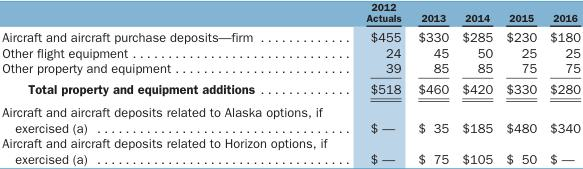table: (1, 0, 580, 166)
table column: (1, 0, 345, 166), (345, 0, 408, 166), (408, 0, 454, 166), (454, 0, 498, 166), (498, 0, 542, 166), (542, 0, 580, 166)
table column header: (1, 0, 580, 26)
table row: (1, 100, 580, 135), (1, 135, 580, 166), (1, 0, 580, 26), (1, 78, 580, 100), (1, 26, 580, 44), (1, 60, 580, 78), (1, 44, 580, 60)
